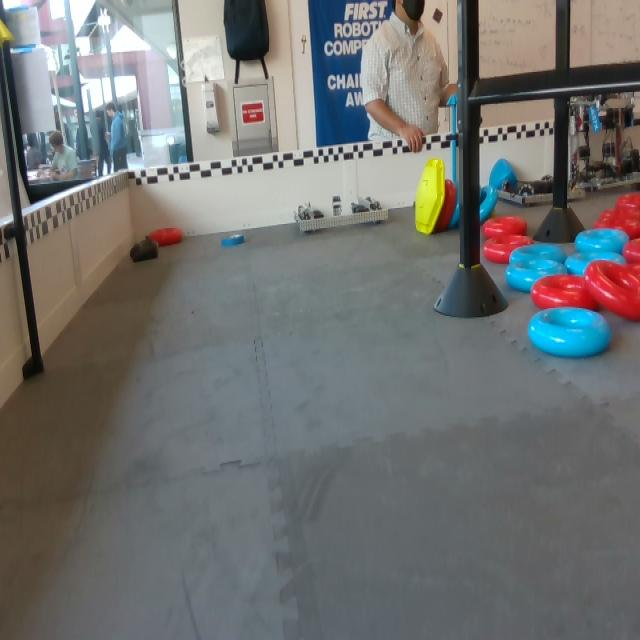Blue-Ring: (526, 309, 611, 356), (504, 259, 568, 293), (564, 252, 626, 277), (576, 229, 630, 254), (509, 245, 566, 263), (480, 185, 498, 225), (449, 181, 461, 229), (217, 232, 250, 249)
Mobile-Goal: (415, 156, 496, 237)
Red-Ring: (586, 263, 639, 321), (531, 274, 598, 309), (483, 233, 536, 262), (598, 209, 639, 239), (435, 180, 457, 232), (484, 215, 526, 237), (150, 228, 183, 247), (615, 193, 639, 219), (621, 238, 639, 269)
Yellow-Stake-Head: (0, 20, 15, 41)
zblue-Stake-Head: (447, 94, 457, 105)
